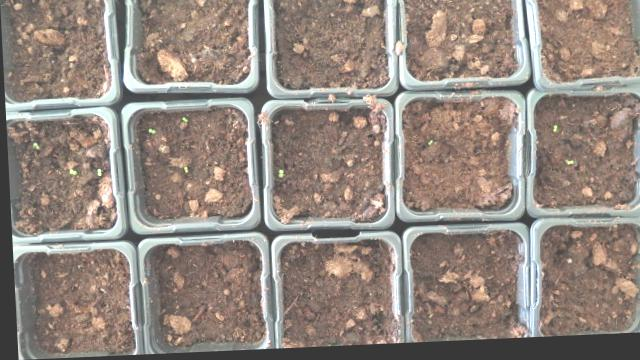weed: (272, 169, 284, 180), (62, 169, 77, 175), (142, 128, 156, 134), (547, 128, 556, 137), (92, 168, 101, 177), (422, 141, 433, 148), (178, 116, 187, 124), (29, 141, 38, 149), (179, 166, 187, 174)
